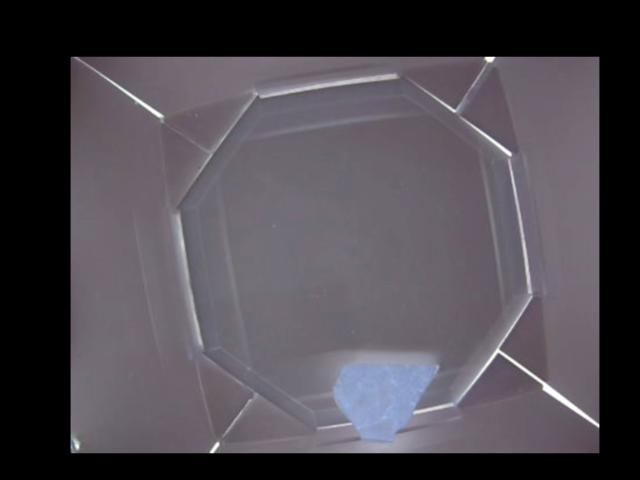China: (334, 363, 441, 444)
